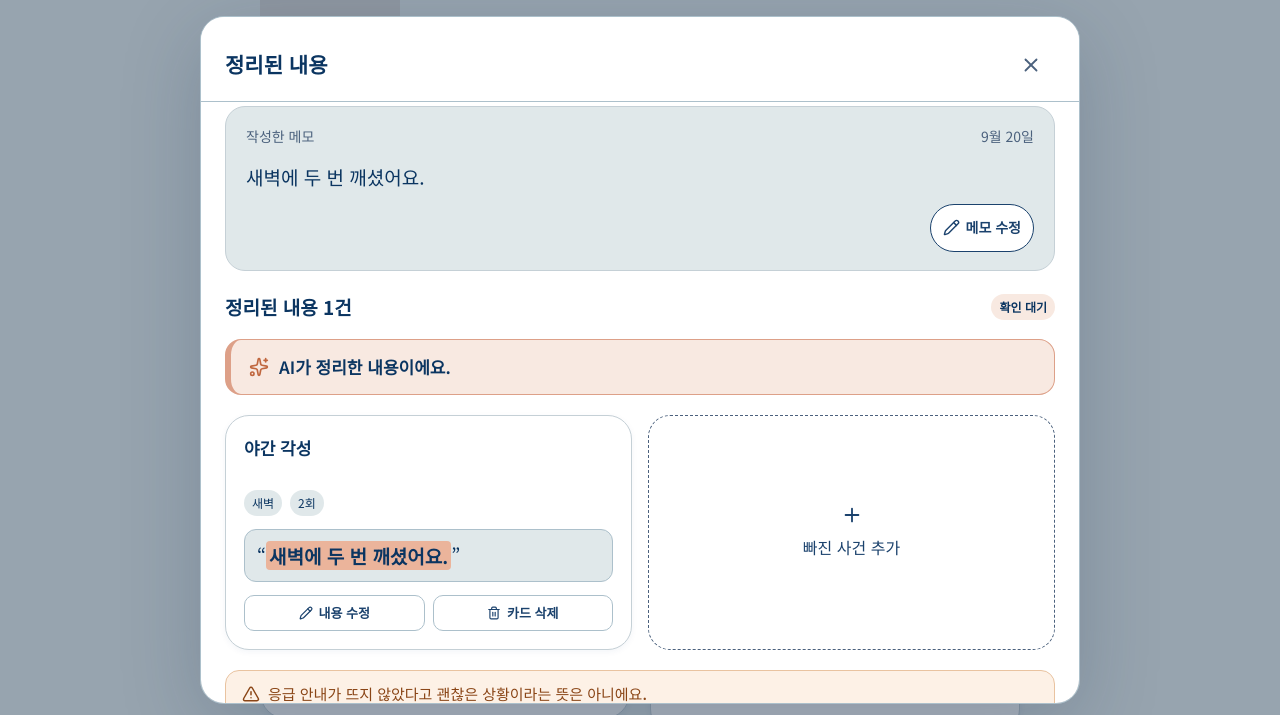
Test: 출력 검토에서 연 상세를 닫으면 선택한 기간을 유지한 요약지로 돌아간다 (시작일 2026-09-01)
Click the button named "닫기".
click(1031, 65)  # box x1=1007 y1=41 x2=1055 y2=89
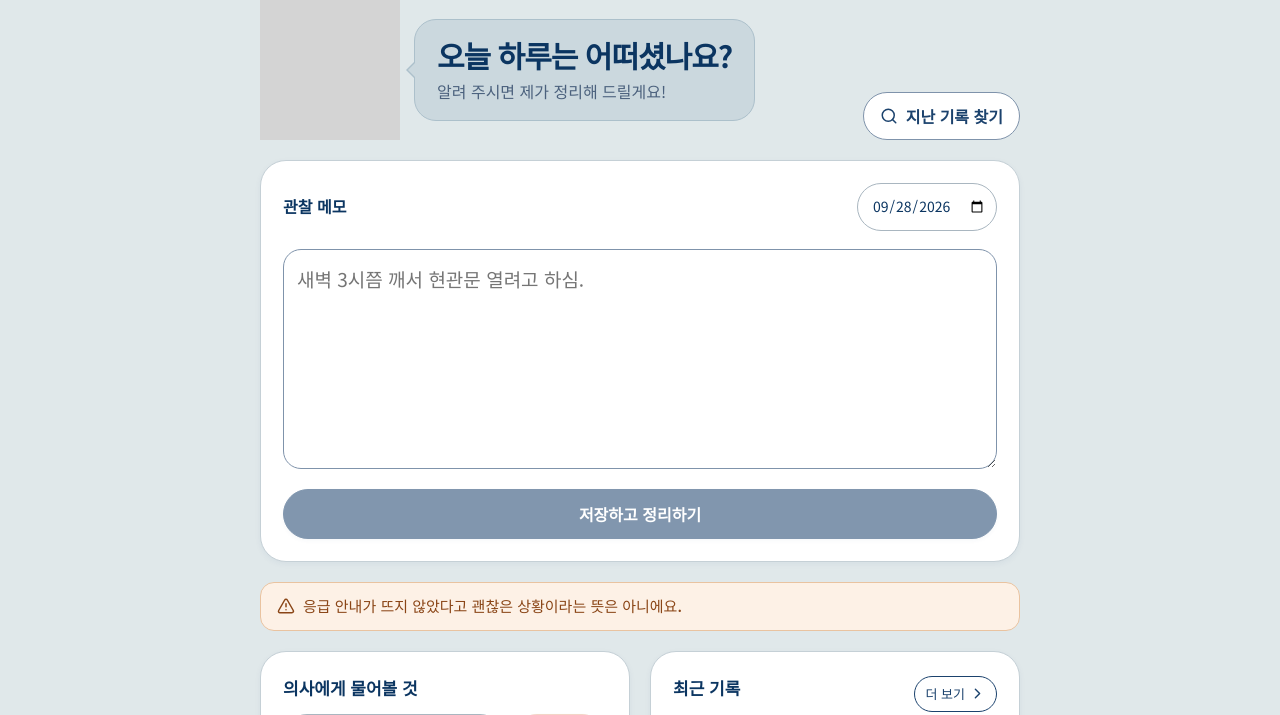
Check: the heading "정리된 내용" is gone
